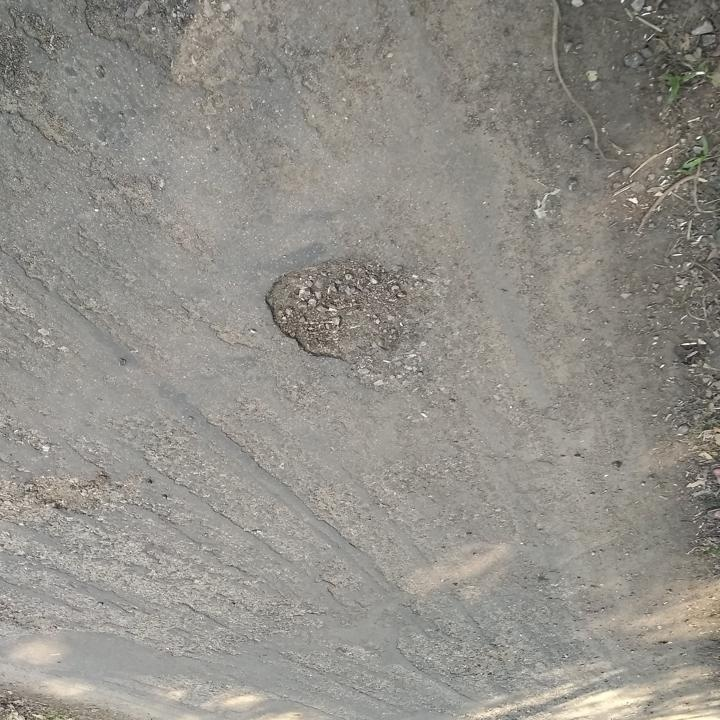pothole: (257, 255, 428, 366), (29, 474, 102, 520)
